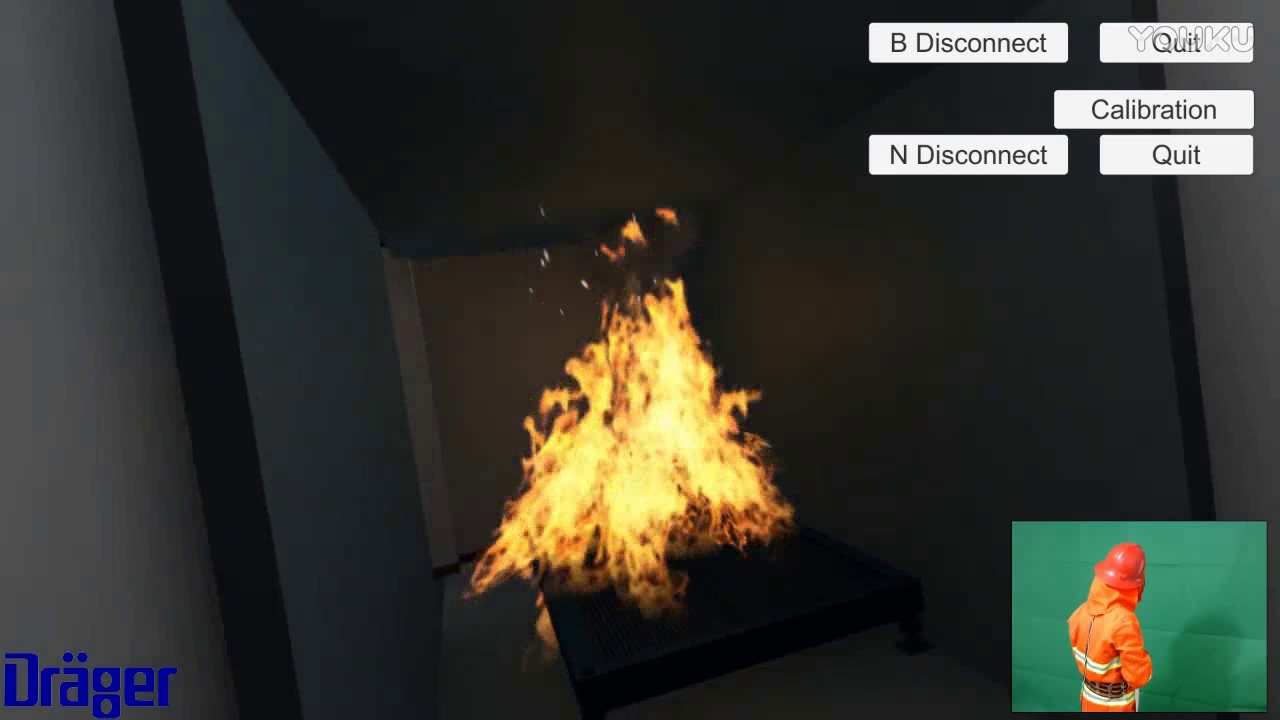fire: (448, 196, 818, 622)
